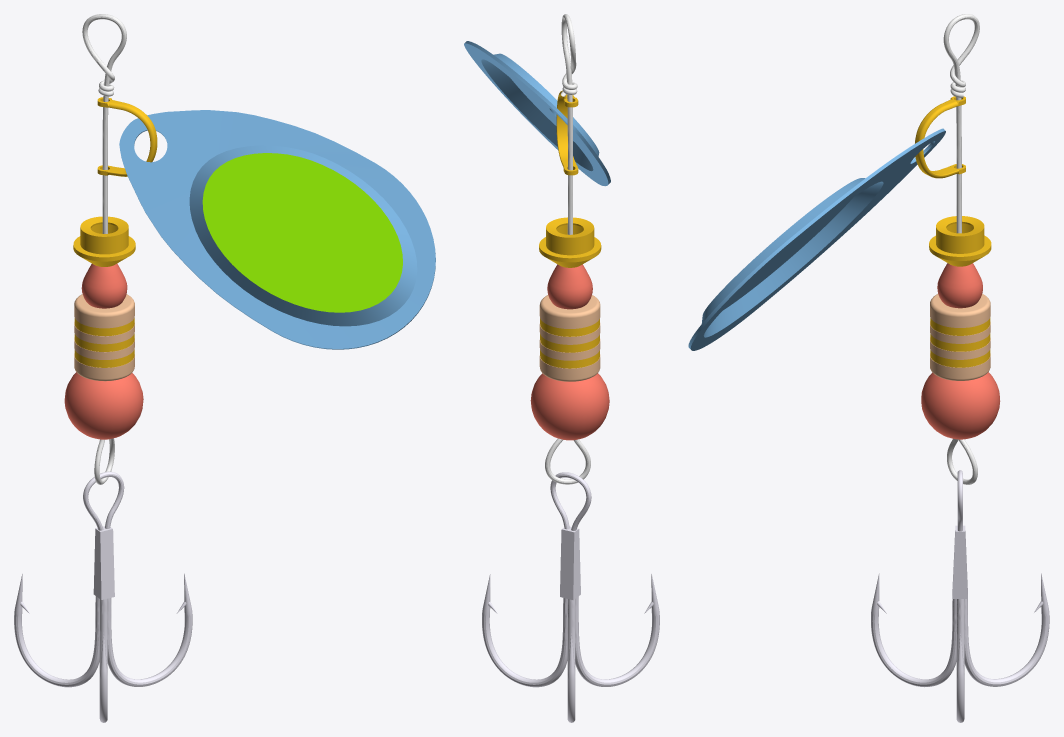
3 renders of one model, left to right at view 1: azimuth 30°, elevation 25°; view 2: azimuth 150°, elevation 25°; view 3: azimuth 270°, elevation 25°, orthographic.
Parts seen in each view (by area): view 1: NurbsPath.001; view 2: NurbsPath.001; view 3: NurbsPath.001.
Part boxes in pixels (bbox=[...]): NurbsPath.001: bbox=[14, 14, 435, 722]; NurbsPath.001: bbox=[464, 14, 659, 722]; NurbsPath.001: bbox=[688, 14, 1049, 722].
Size of the model in its own units: 0.7147 by 1.8 by 0.8636.
